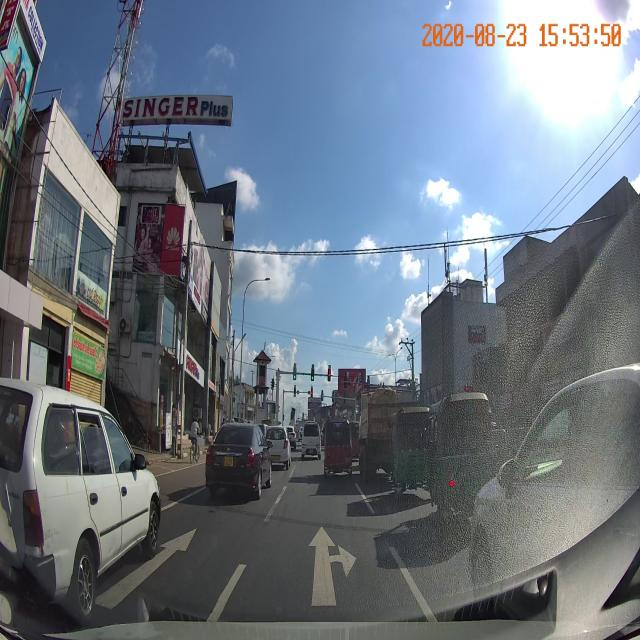forward_right: (208, 514, 435, 613), (203, 534, 437, 613), (208, 531, 435, 612), (205, 540, 437, 615)
